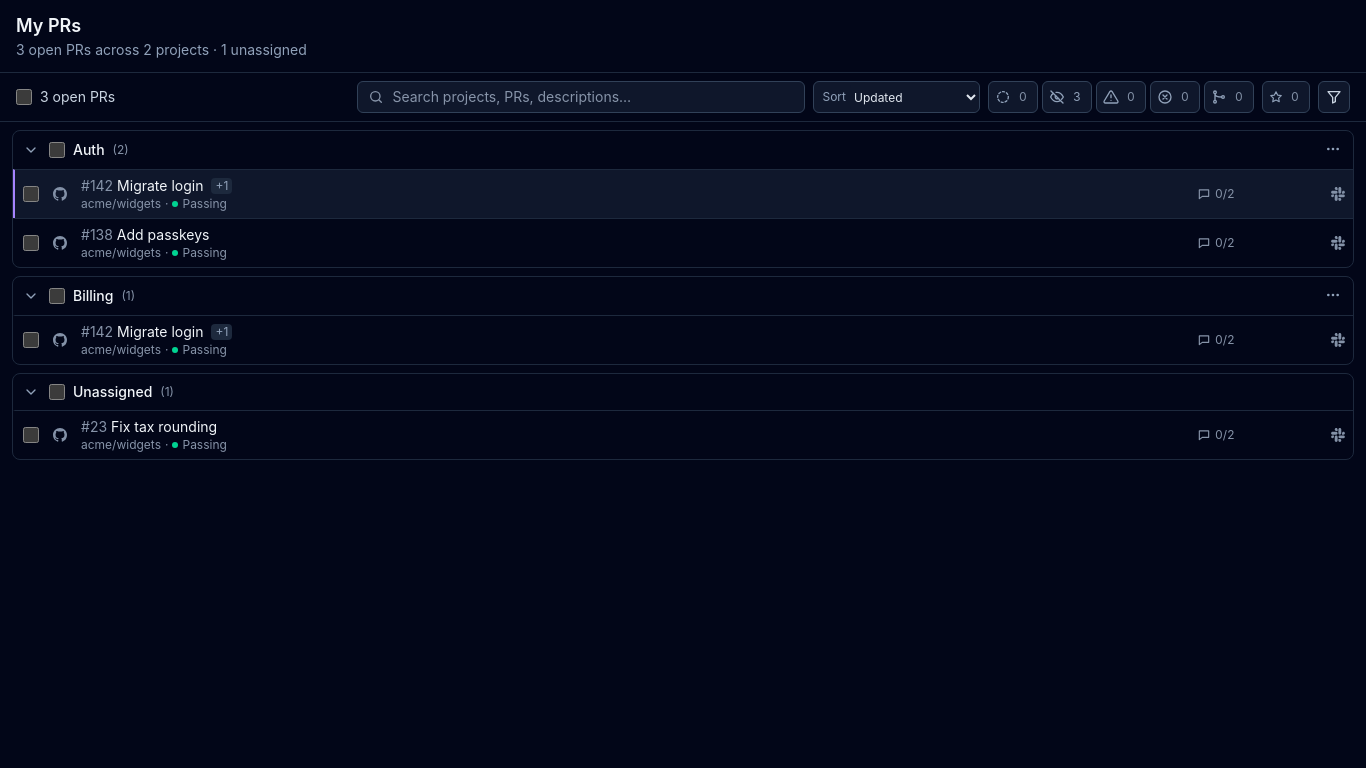
Test: the funnel button sits right of search and its menu closes on Escape and outside click
Click the button named "Filter menu" at (1334, 97), box [1318,81,1350,113]
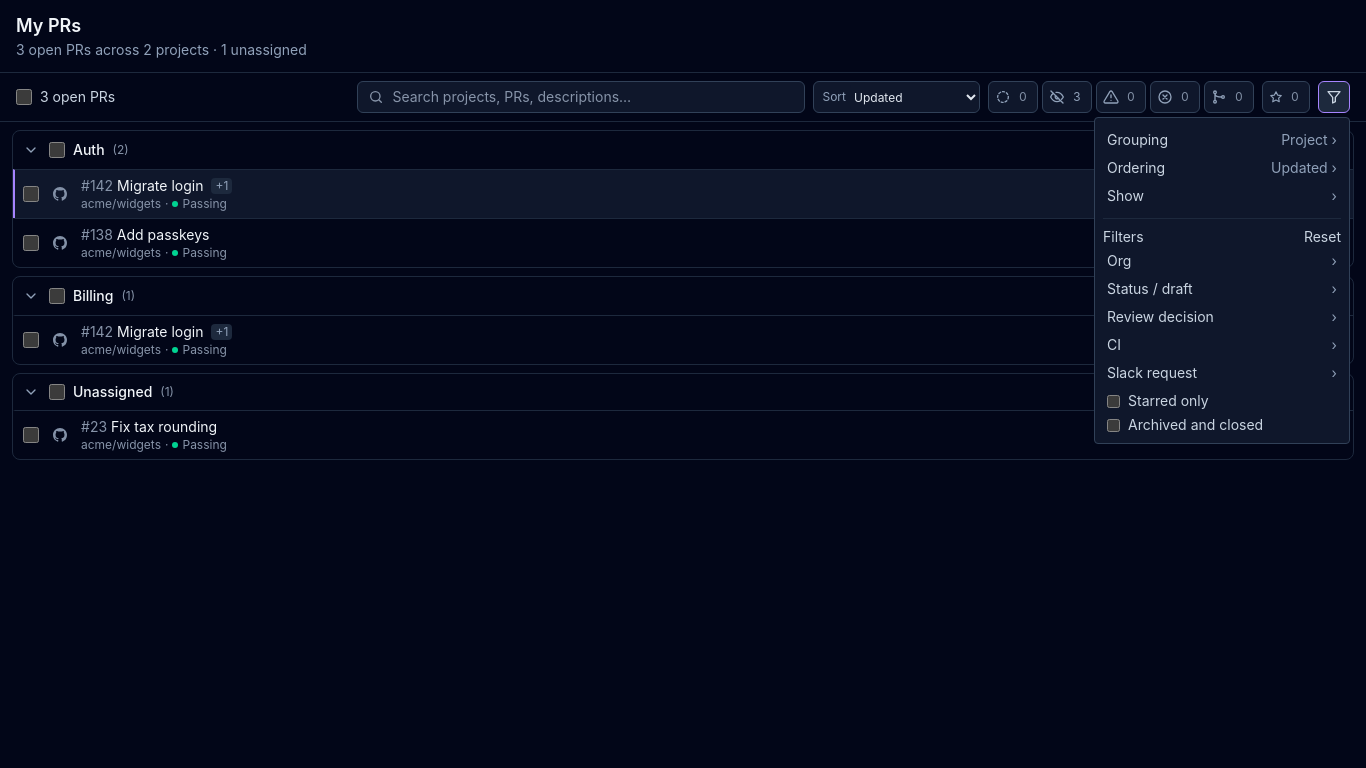
Expected: the menu is shown, [1094,117,1350,444]
Press Escape
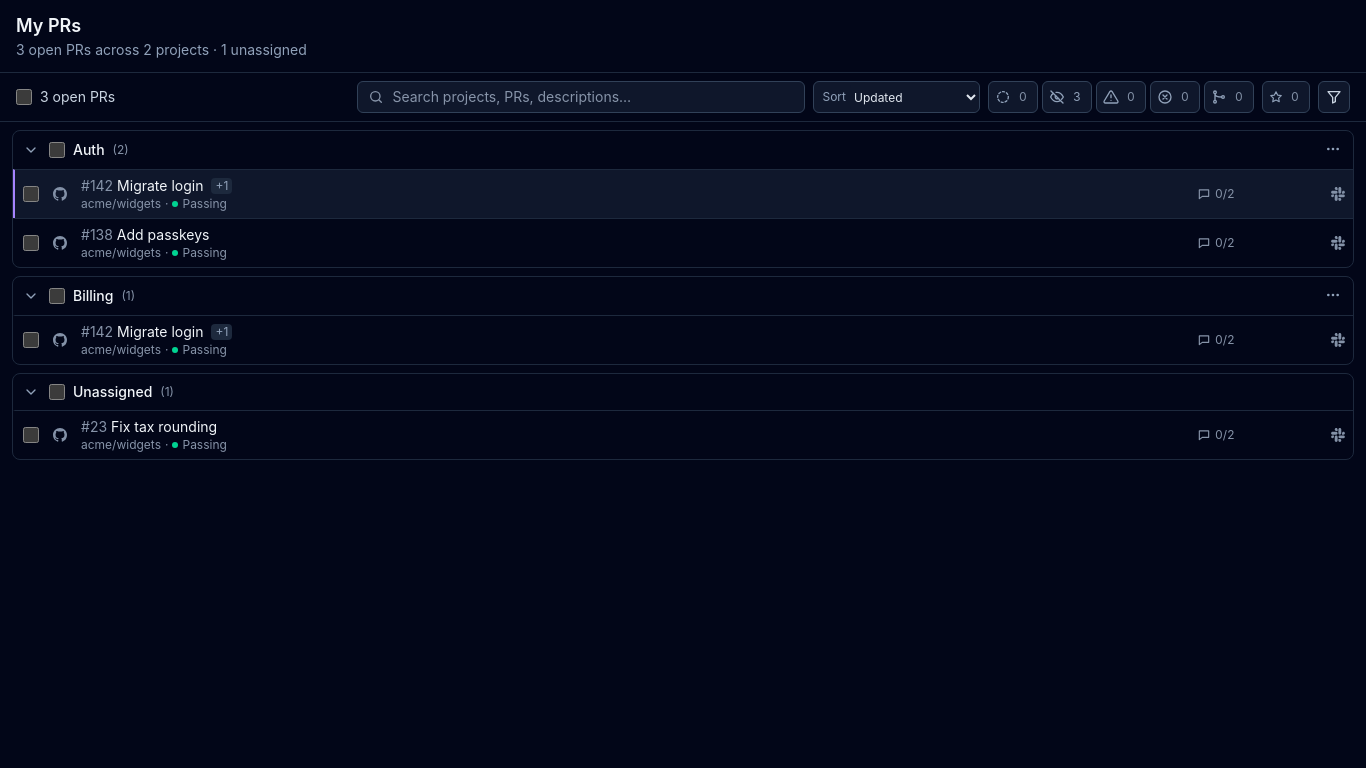
Expected: the menu is gone
Click the button named "Filter menu" at (1334, 97), box [1318,81,1350,113]
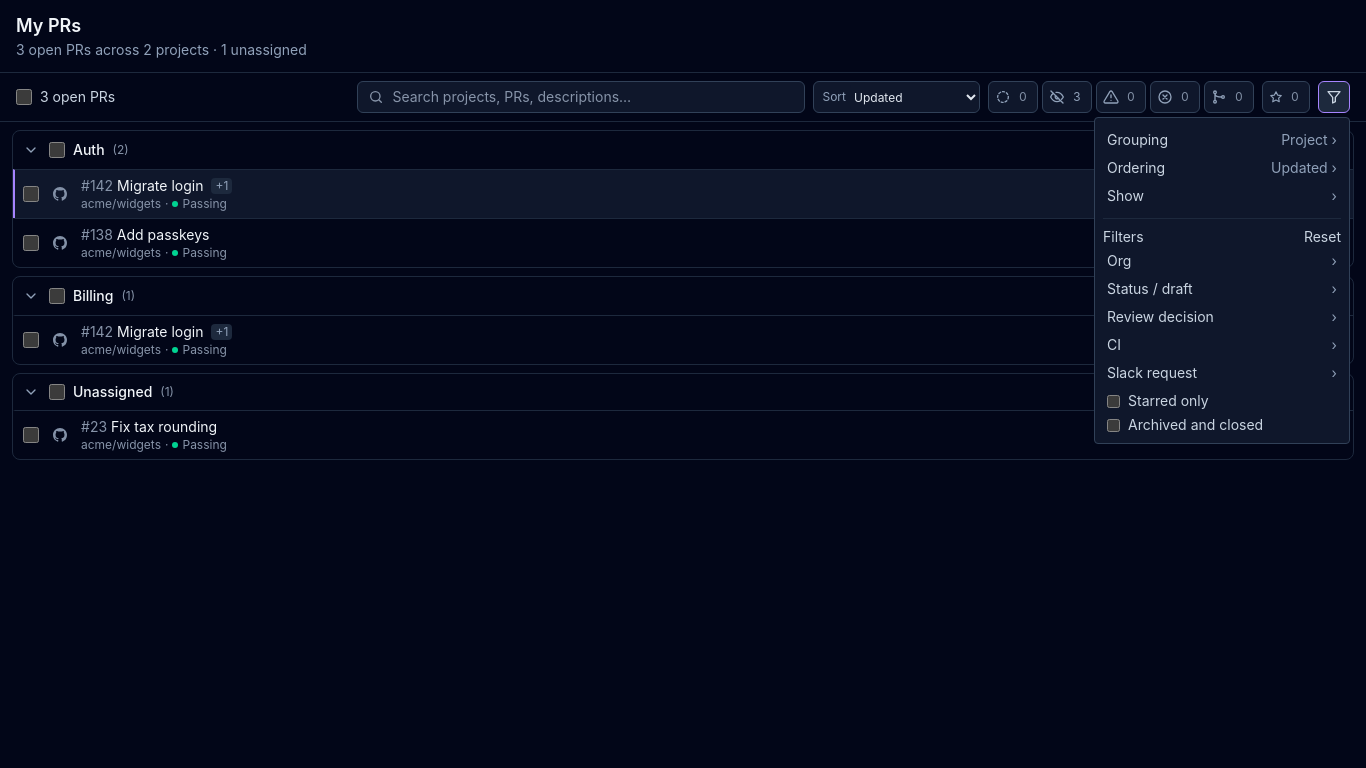
Press the mouse on the menu at (1222, 280), box [1094,117,1350,444]
Expected: the menu is shown, [1094,117,1350,444]
Press the mouse on the element that starts with "My PRs" at (683, 384), box [0,0,1365,767]
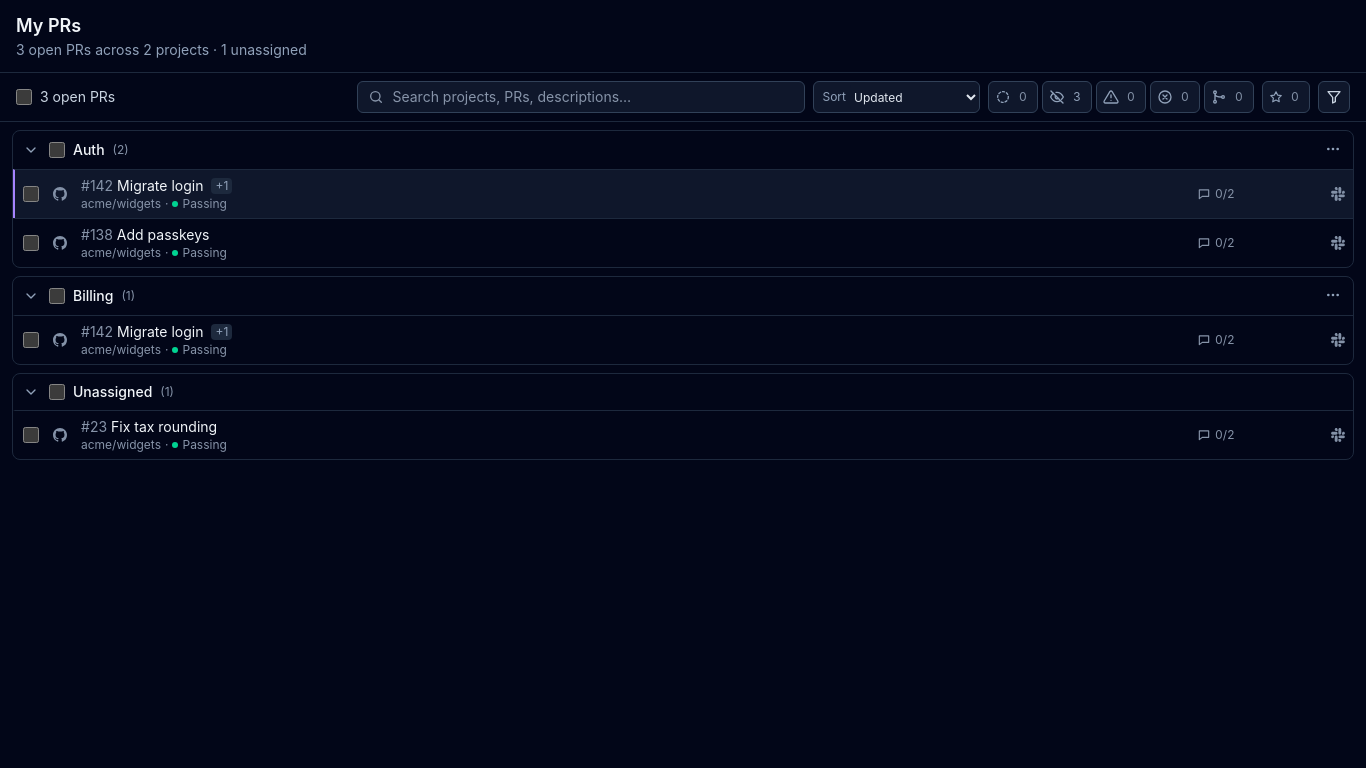
Expected: the menu is gone
